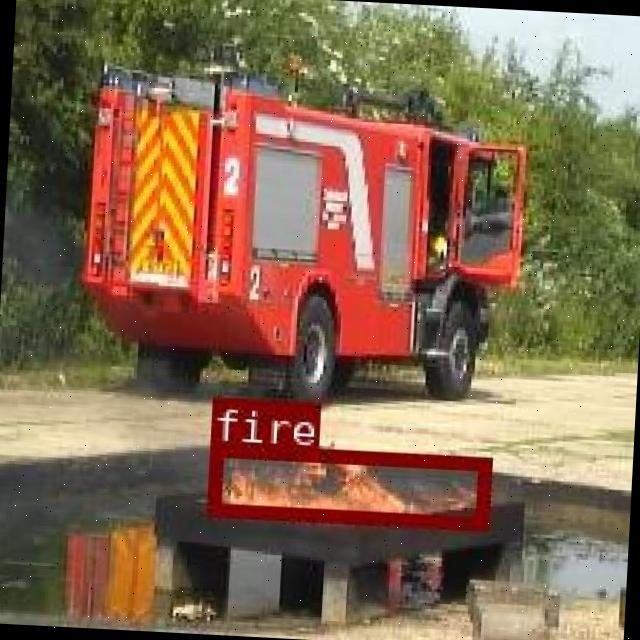fire: (205, 441, 489, 528)
